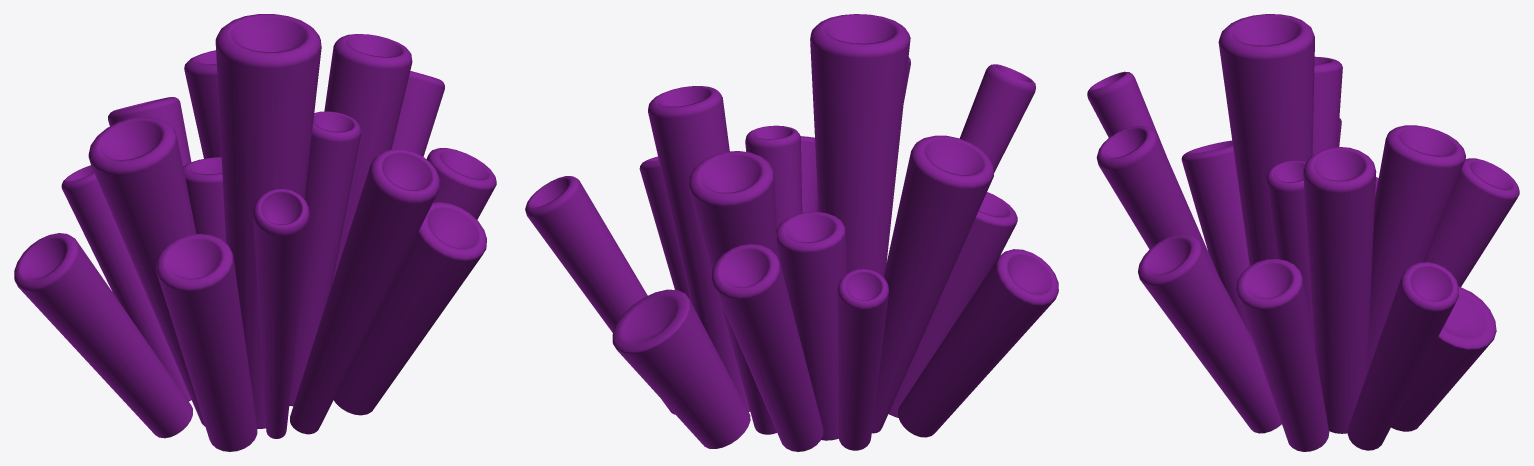
The model's file is maya2sketchfab.fbx.
3 views of the same model, side by side, from view 1: azimuth 30°, elevation 25°; view 2: azimuth 150°, elevation 25°; view 3: azimuth 270°, elevation 25° (orthographic). The views are drawn at different scales.
Visible parts, largest first — view 1: pCylinder35; view 2: pCylinder35; view 3: pCylinder35.
Part boxes in pixels (x1=…): pCylinder35: x1=14, y1=14, x2=496, y2=451; pCylinder35: x1=525, y1=14, x2=1058, y2=451; pCylinder35: x1=1087, y1=14, x2=1519, y2=451.
Size of the model in its own units: 18.46 by 14.61 by 15.67.
